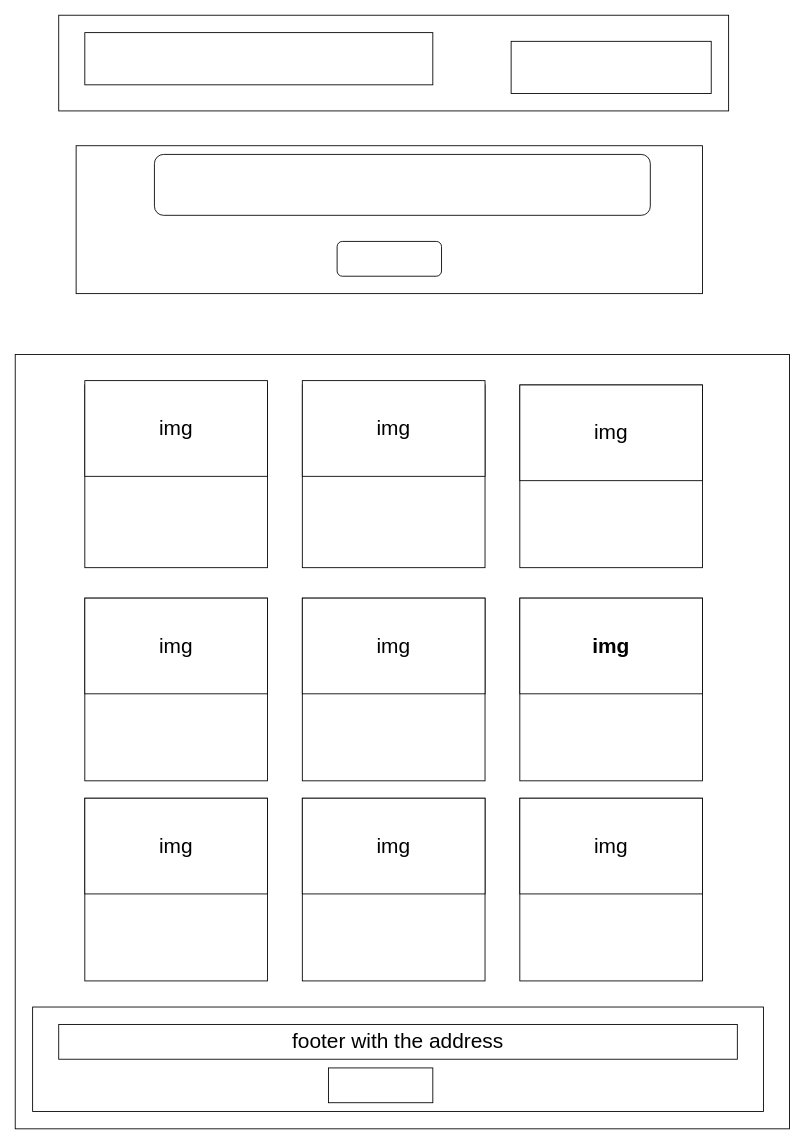
The diagram is 805 pixels wide and 1144 high, and some of its shapes have lost their labels. Each missing label, with the centre of its shape:
"button" goes at pixel 380 1085.
"name of the business" goes at pixel 258 58.
"nav items" goes at pixel 610 67.
"order button" goes at pixel 389 258.
"some sort of entry text" goes at pixel 402 184.
